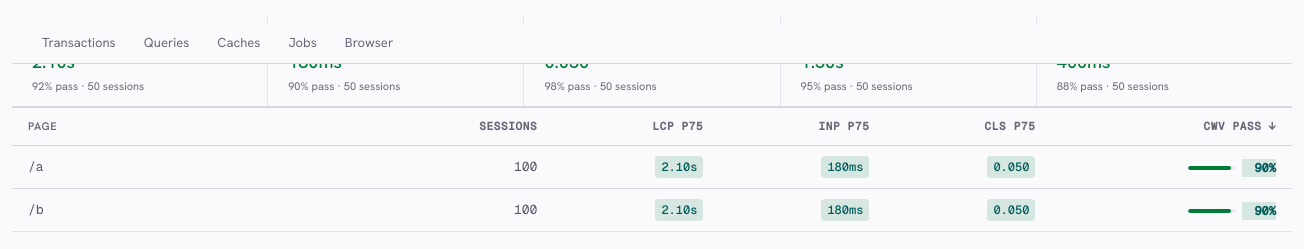
BrowserView › sorting › sorts by LCP p75 column when clicked: shows sort icon
Click the button with class "col-sort" showing "LCP p75" at point(636, 126), box [553, 108, 719, 144]
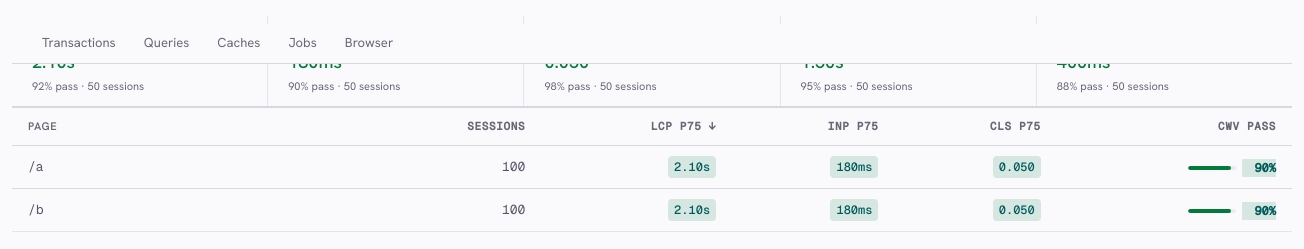
Expected: the button with class "col-sort" reads "LCP p75 ↓", [541, 108, 732, 144]
